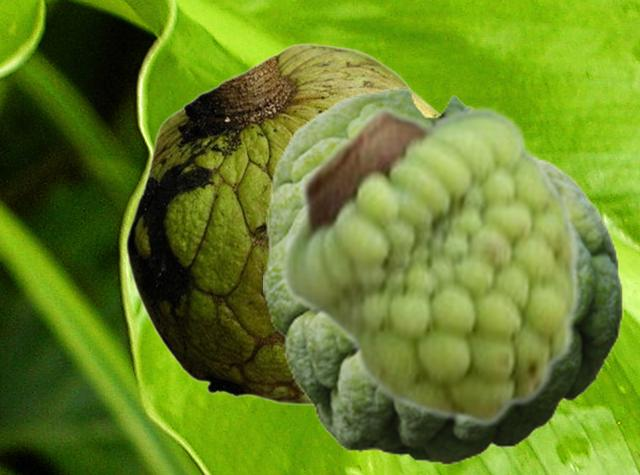atis: (263, 86, 622, 464), (124, 42, 439, 405), (281, 103, 582, 428)
